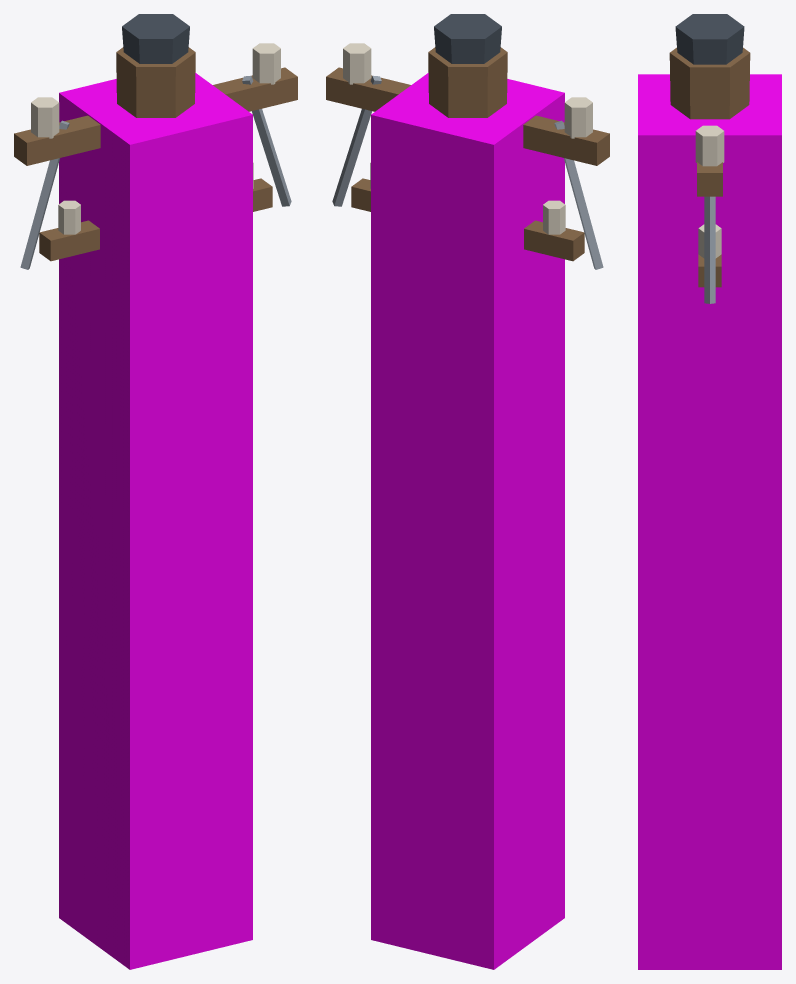
File: pole.glb
The picture shows the model from 3 angles, left to right: view 1: azimuth 30°, elevation 25°; view 2: azimuth 150°, elevation 25°; view 3: azimuth 270°, elevation 25°; orthographic projection.
Visible parts, largest first — view 1: Col_main, M_b0, M_b2, M_b1, M_b3; view 2: Col_main, M_b0, M_b2, M_b1, M_b3; view 3: Col_main, M_b0, M_b1, M_b2, M_b3.
Boxes of the visible parts, bbox=[...] form: Col_main: bbox=[59, 73, 252, 969]; M_b0: bbox=[14, 47, 297, 261]; M_b2: bbox=[31, 43, 280, 234]; M_b1: bbox=[122, 14, 189, 63]; M_b3: bbox=[20, 75, 291, 269]; Col_main: bbox=[371, 73, 564, 969]; M_b0: bbox=[326, 47, 609, 261]; M_b2: bbox=[343, 43, 592, 234]; M_b1: bbox=[434, 14, 501, 63]; M_b3: bbox=[332, 75, 603, 269]; Col_main: bbox=[638, 74, 781, 969]; M_b0: bbox=[669, 47, 750, 287]; M_b1: bbox=[675, 14, 744, 64]; M_b2: bbox=[695, 125, 724, 258]; M_b3: bbox=[704, 196, 715, 303].
Bounding box in the file's own units: 1.1 × 3.51 × 0.5.
